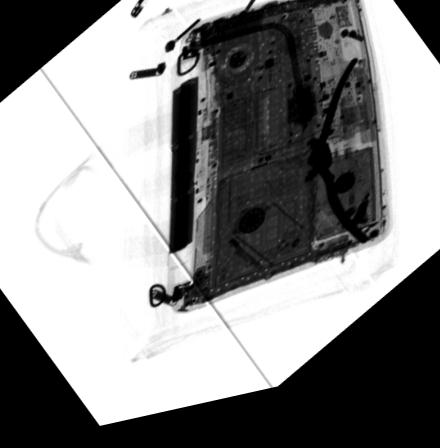Pliers: (302, 72, 371, 261)
